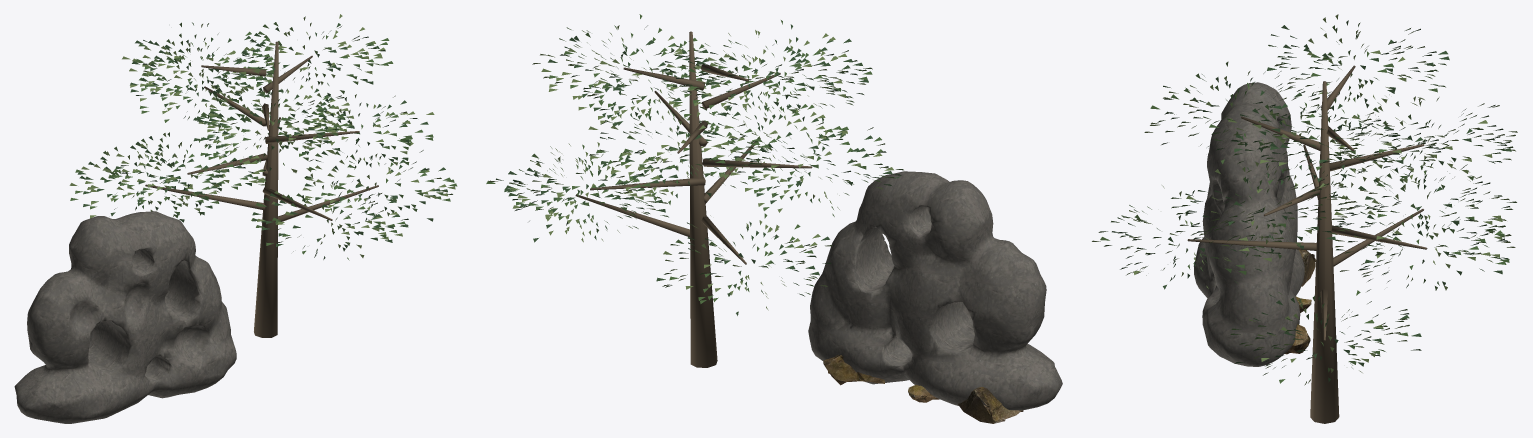
File: reference-public_models_places-low_qujingtongyou.glb
3 renders of one model, left to right at view 1: azimuth 30°, elevation 25°; view 2: azimuth 150°, elevation 25°; view 3: azimuth 270°, elevation 25°, orthographic. The views are drawn at different scales.
Visible parts, largest first — view 1: Mobile_qujingtongyou_gardenstone, Mobile_qujingtongyou_plants; view 2: Mobile_qujingtongyou_gardenstone, Mobile_qujingtongyou_plants, Mobile_qujingtongyou_limestone; view 3: Mobile_qujingtongyou_plants, Mobile_qujingtongyou_gardenstone, Mobile_qujingtongyou_limestone.
Part boxes in pixels (left/top/right/bottom): Mobile_qujingtongyou_gardenstone: left=14, top=211, right=236, bottom=423; Mobile_qujingtongyou_plants: left=69, top=14, right=457, bottom=337; Mobile_qujingtongyou_gardenstone: left=808, top=171, right=1062, bottom=410; Mobile_qujingtongyou_plants: left=486, top=14, right=903, bottom=367; Mobile_qujingtongyou_limestone: left=823, top=354, right=1023, bottom=423; Mobile_qujingtongyou_plants: left=1092, top=14, right=1517, bottom=423; Mobile_qujingtongyou_gardenstone: left=1193, top=82, right=1304, bottom=366; Mobile_qujingtongyou_limestone: left=1285, top=249, right=1315, bottom=354.
Size of the model in its own units: 16.68 by 10.1 by 11.27.
Materials: 3 (2 with a texture image).
